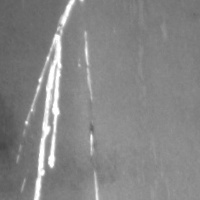inclusion: (124, 0, 151, 33)
scratches: (7, 0, 94, 199), (84, 123, 105, 199), (78, 29, 98, 104)
